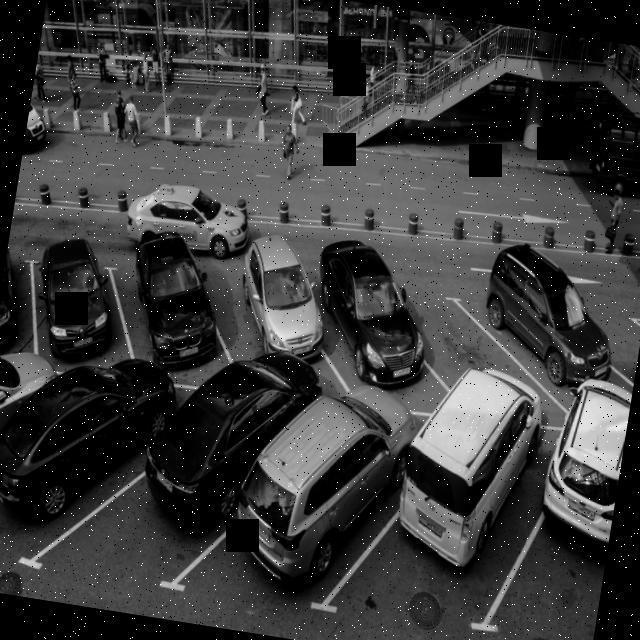car: (78, 322, 343, 594), (197, 355, 453, 628), (361, 368, 574, 622), (0, 338, 191, 583), (510, 390, 630, 633), (460, 258, 634, 410), (295, 244, 446, 415), (196, 238, 346, 385), (12, 234, 150, 376), (106, 238, 238, 370), (0, 232, 54, 367)
free: (386, 270, 535, 411)
